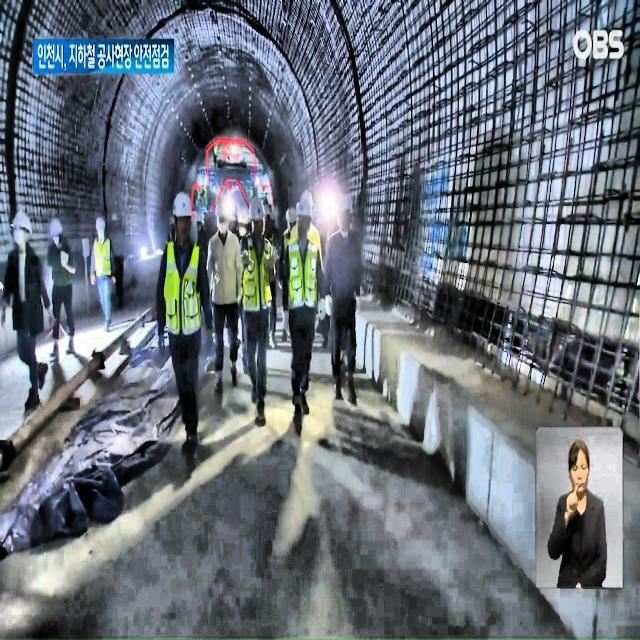safety_helmet: (172, 192, 192, 219), (12, 211, 32, 235), (296, 201, 313, 222), (250, 199, 266, 219), (336, 198, 353, 215), (215, 200, 231, 218), (238, 205, 250, 224), (50, 220, 62, 238), (285, 208, 297, 223), (96, 217, 107, 232)
safety_jacket: (165, 245, 203, 333), (245, 234, 273, 308), (288, 241, 318, 308), (94, 238, 112, 277)
